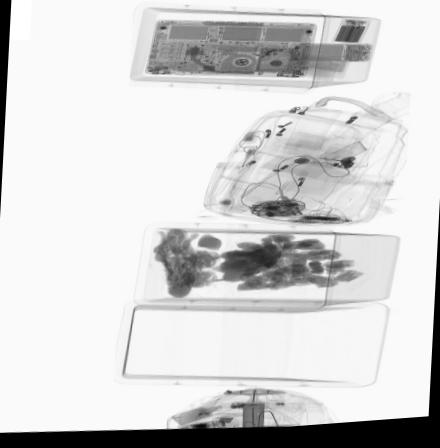Powerbank: (330, 25, 370, 51)
